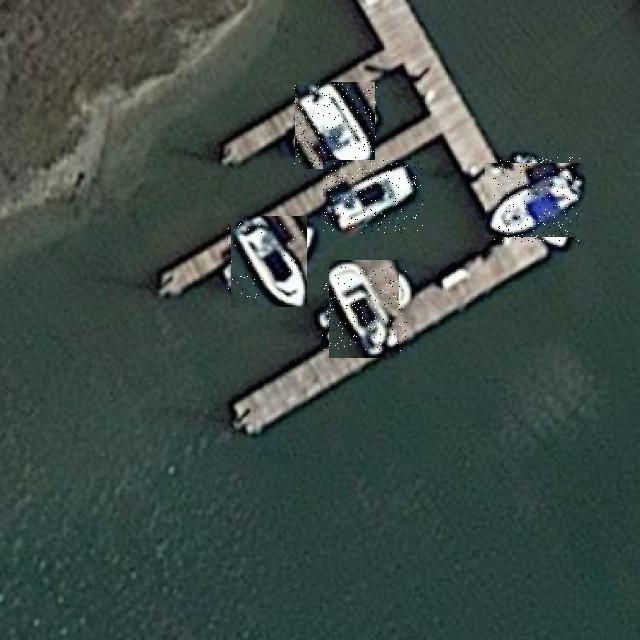boat: (492, 156, 580, 244), (324, 160, 424, 233), (322, 267, 407, 351), (293, 83, 377, 167), (227, 220, 310, 303)
